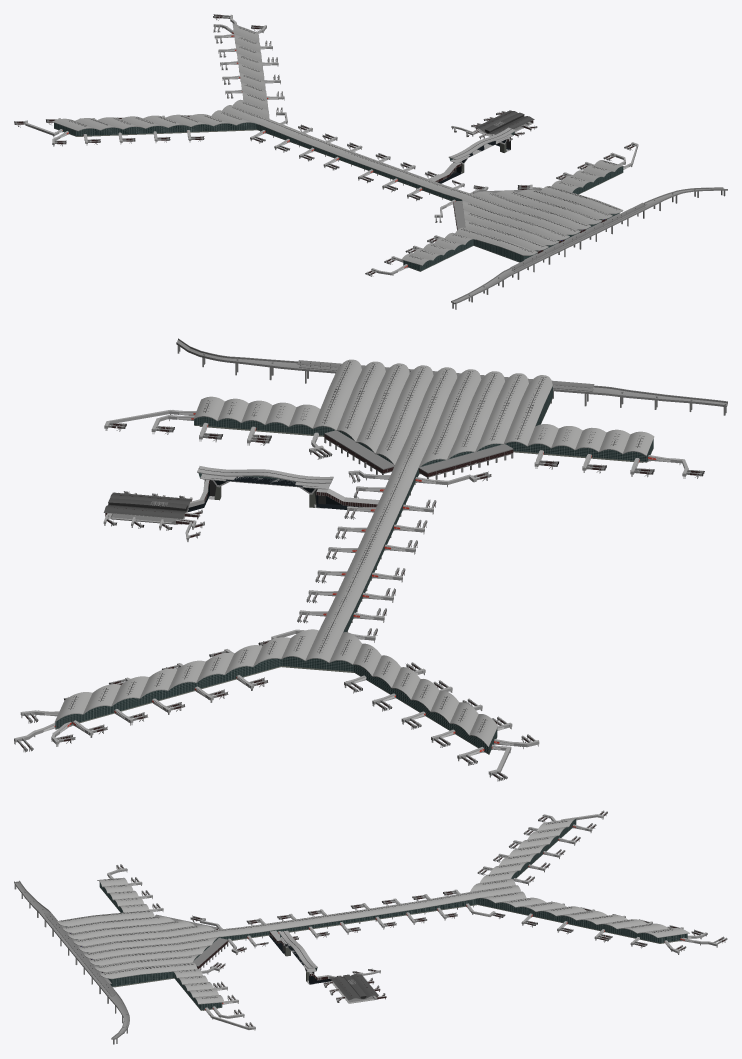
Rendered from VHHH_optimized.glb.
3 views of the same model, one above another, from view 1: azimuth 30°, elevation 25°; view 2: azimuth 150°, elevation 25°; view 3: azimuth 270°, elevation 25° (orthographic). The views are drawn at different scales.
Parts seen in each view (by area): view 1: Plane.001, Plane, Cube.003, Cube, Cube.006, Plane.002, Cube.175; view 2: Plane.001, Plane, Cube.003, Cube, Cube.006, Cube.175, Cube.001, Plane.002, Cube.002, Cube.176; view 3: Plane.001, Plane, Cube.003, Cube, Cube.006, Plane.002, Cube.175, Cube.002.
Boxes of the visible parts, left/top/right/bottom form: Plane.001: left=52, top=23, right=625, bottom=265; Plane: left=54, top=122, right=623, bottom=271; Cube.003: left=451, top=187, right=727, bottom=309; Cube: left=69, top=27, right=619, bottom=259; Cube.006: left=474, top=110, right=534, bottom=134; Plane.002: left=54, top=128, right=623, bottom=271; Cube.175: left=448, top=127, right=515, bottom=163; Plane.001: left=54, top=359, right=654, bottom=747; Plane: left=55, top=386, right=653, bottom=753; Cube.003: left=176, top=338, right=727, bottom=415; Cube: left=68, top=361, right=644, bottom=732; Cube.006: left=103, top=492, right=191, bottom=519; Cube.175: left=197, top=466, right=333, bottom=489; Cube.001: left=419, top=444, right=513, bottom=479; Plane.002: left=55, top=398, right=653, bottom=754; Cube.002: left=324, top=430, right=394, bottom=474; Cube.176: left=316, top=488, right=379, bottom=509; Plane.001: left=57, top=818, right=689, bottom=1004; Plane: left=66, top=819, right=687, bottom=1010; Cube.003: left=14, top=880, right=129, bottom=1044; Cube: left=60, top=820, right=672, bottom=998; Cube.006: left=330, top=974, right=378, bottom=1000; Plane.002: left=100, top=824, right=680, bottom=1010; Cube.175: left=279, top=930, right=317, bottom=972; Cube.002: left=193, top=938, right=228, bottom=970.
Bounding box in the file's own units: 1184 × 55.04 × 1565.
Materials: 21 (2 with a texture image).
